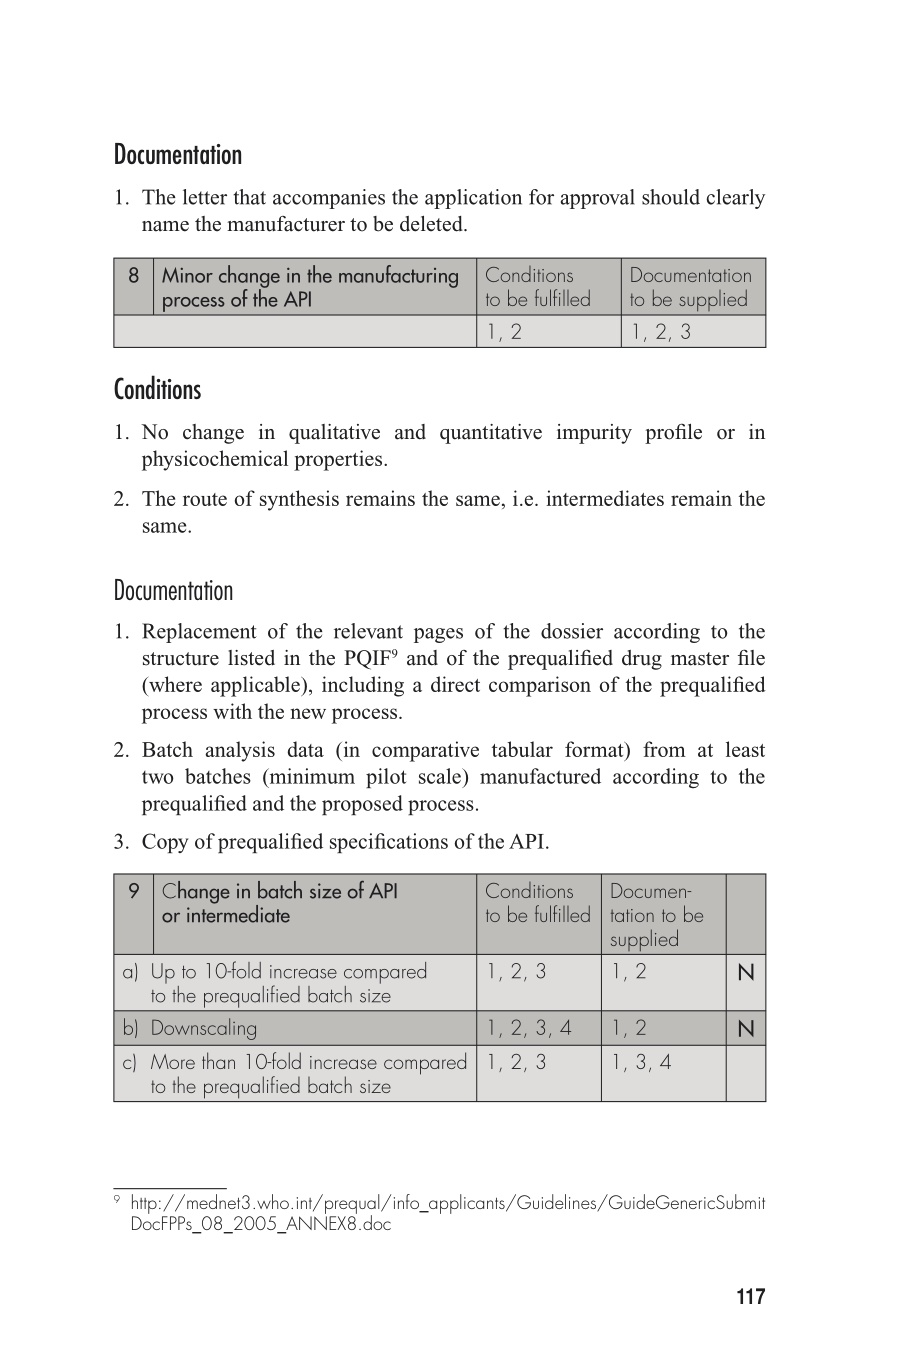merged_cells: (113, 872, 767, 1103), (113, 256, 767, 348)
